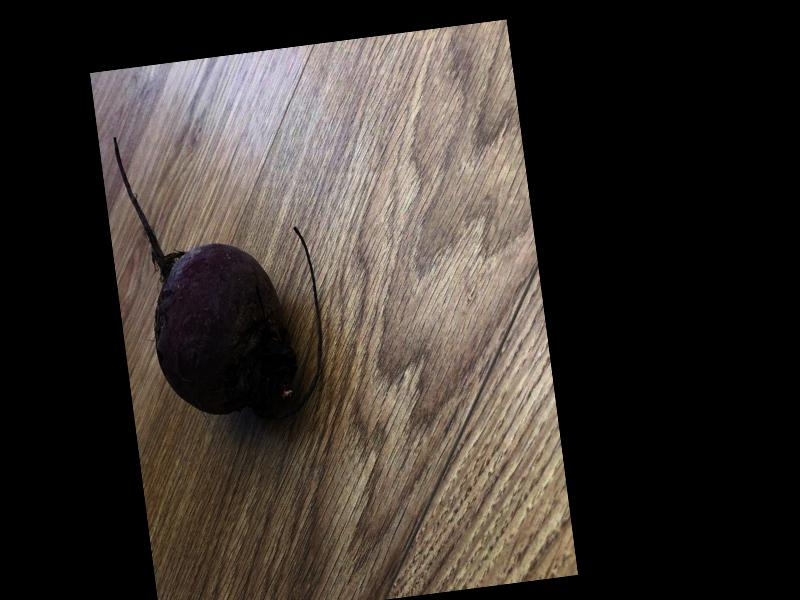Beet: (113, 113, 332, 432)
